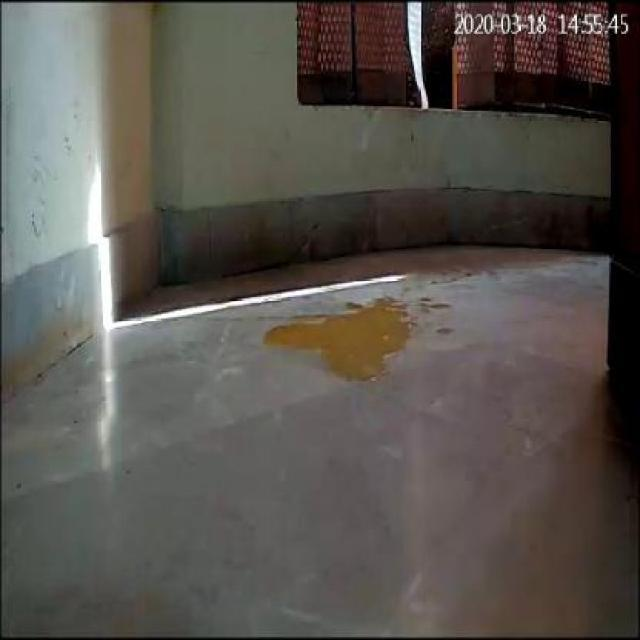spill: (266, 288, 414, 384)
